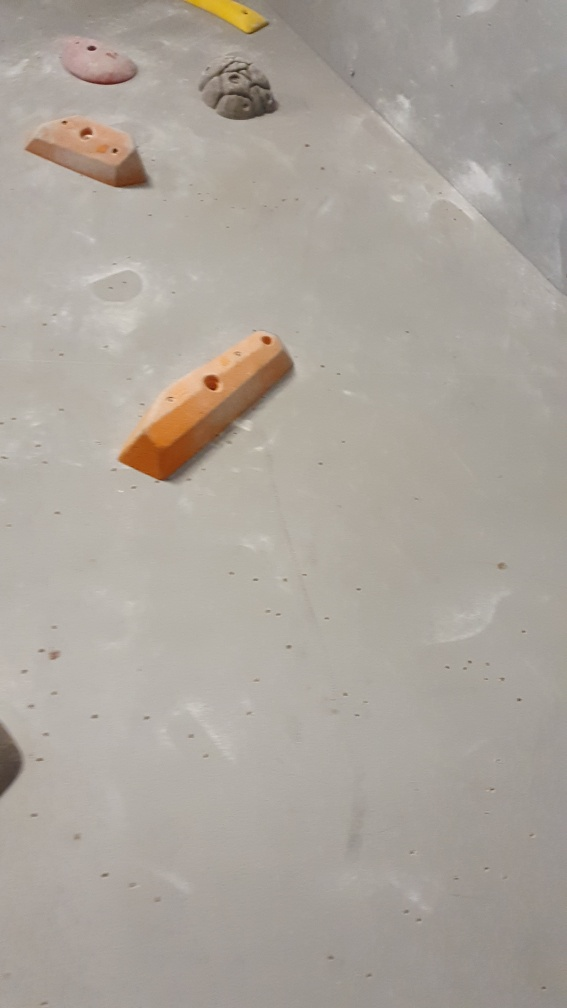Crimp: (182, 1, 272, 38)
Jug: (195, 52, 279, 130)
Pinch: (114, 329, 297, 485), (24, 111, 157, 195)
